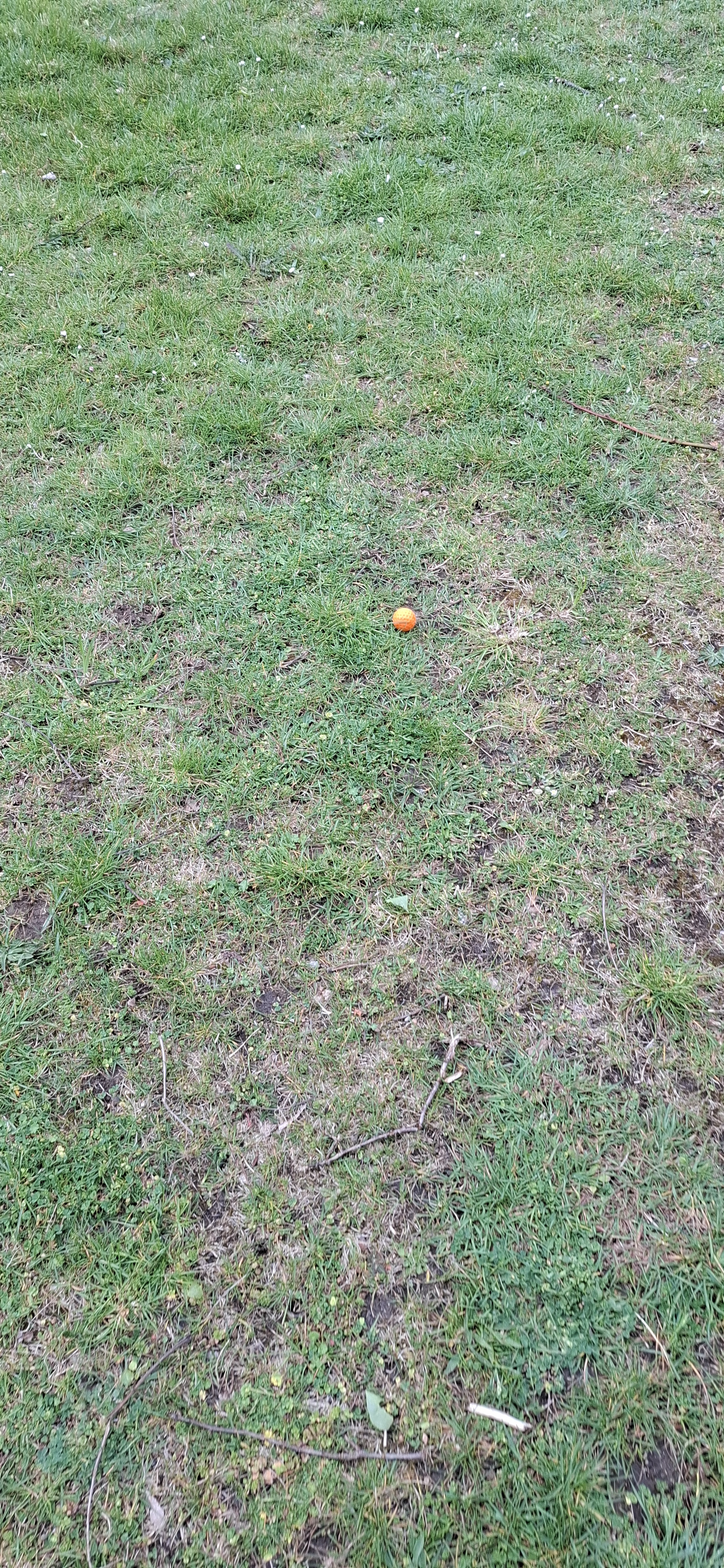ball: (280, 667, 292, 717)
